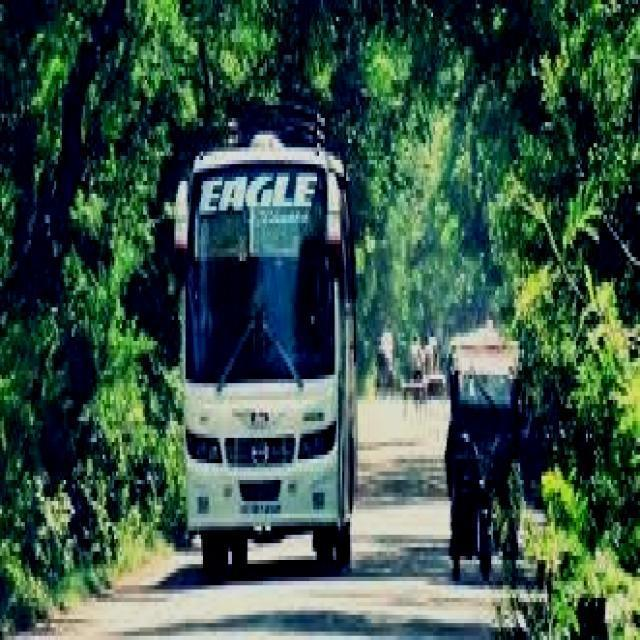Bus: (165, 101, 363, 577)
